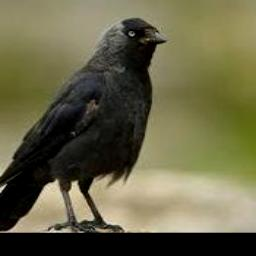Crow: (0, 17, 165, 232)
